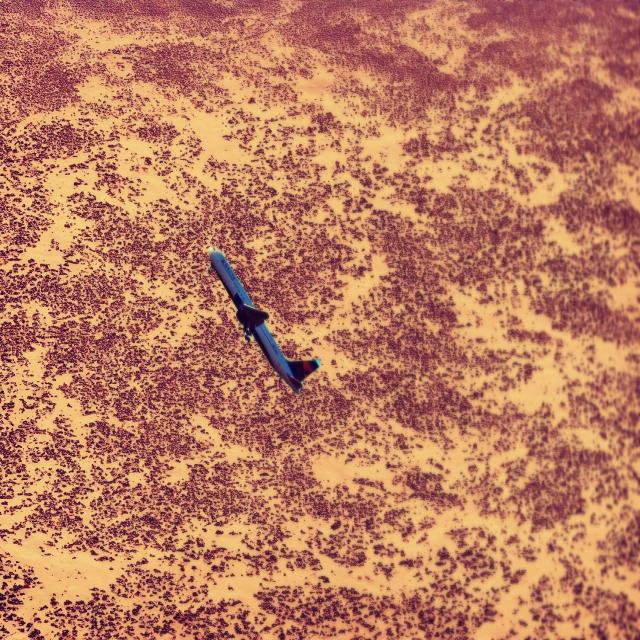airplane: (207, 245, 321, 395)
